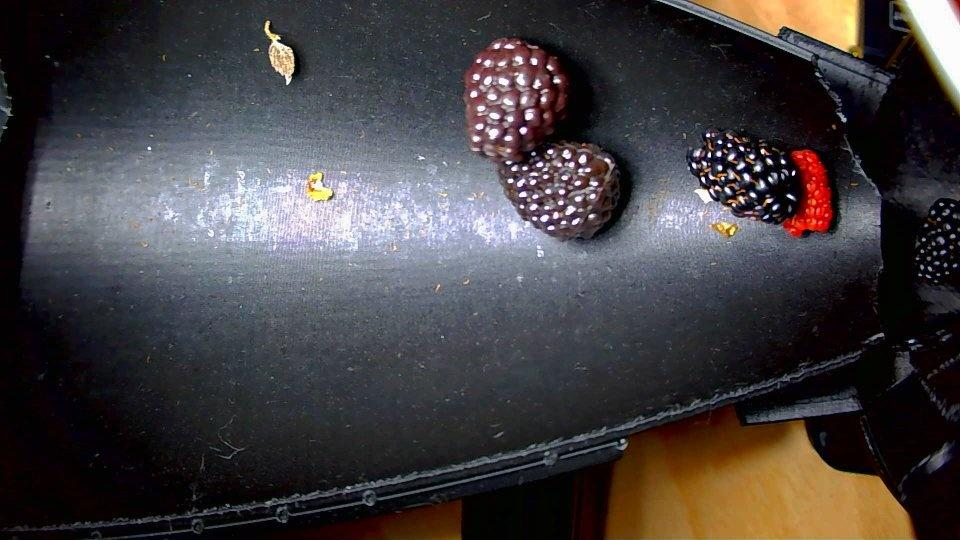berry: (464, 37, 569, 161), (499, 143, 618, 239), (688, 129, 801, 224), (783, 150, 833, 236), (916, 199, 959, 284)
